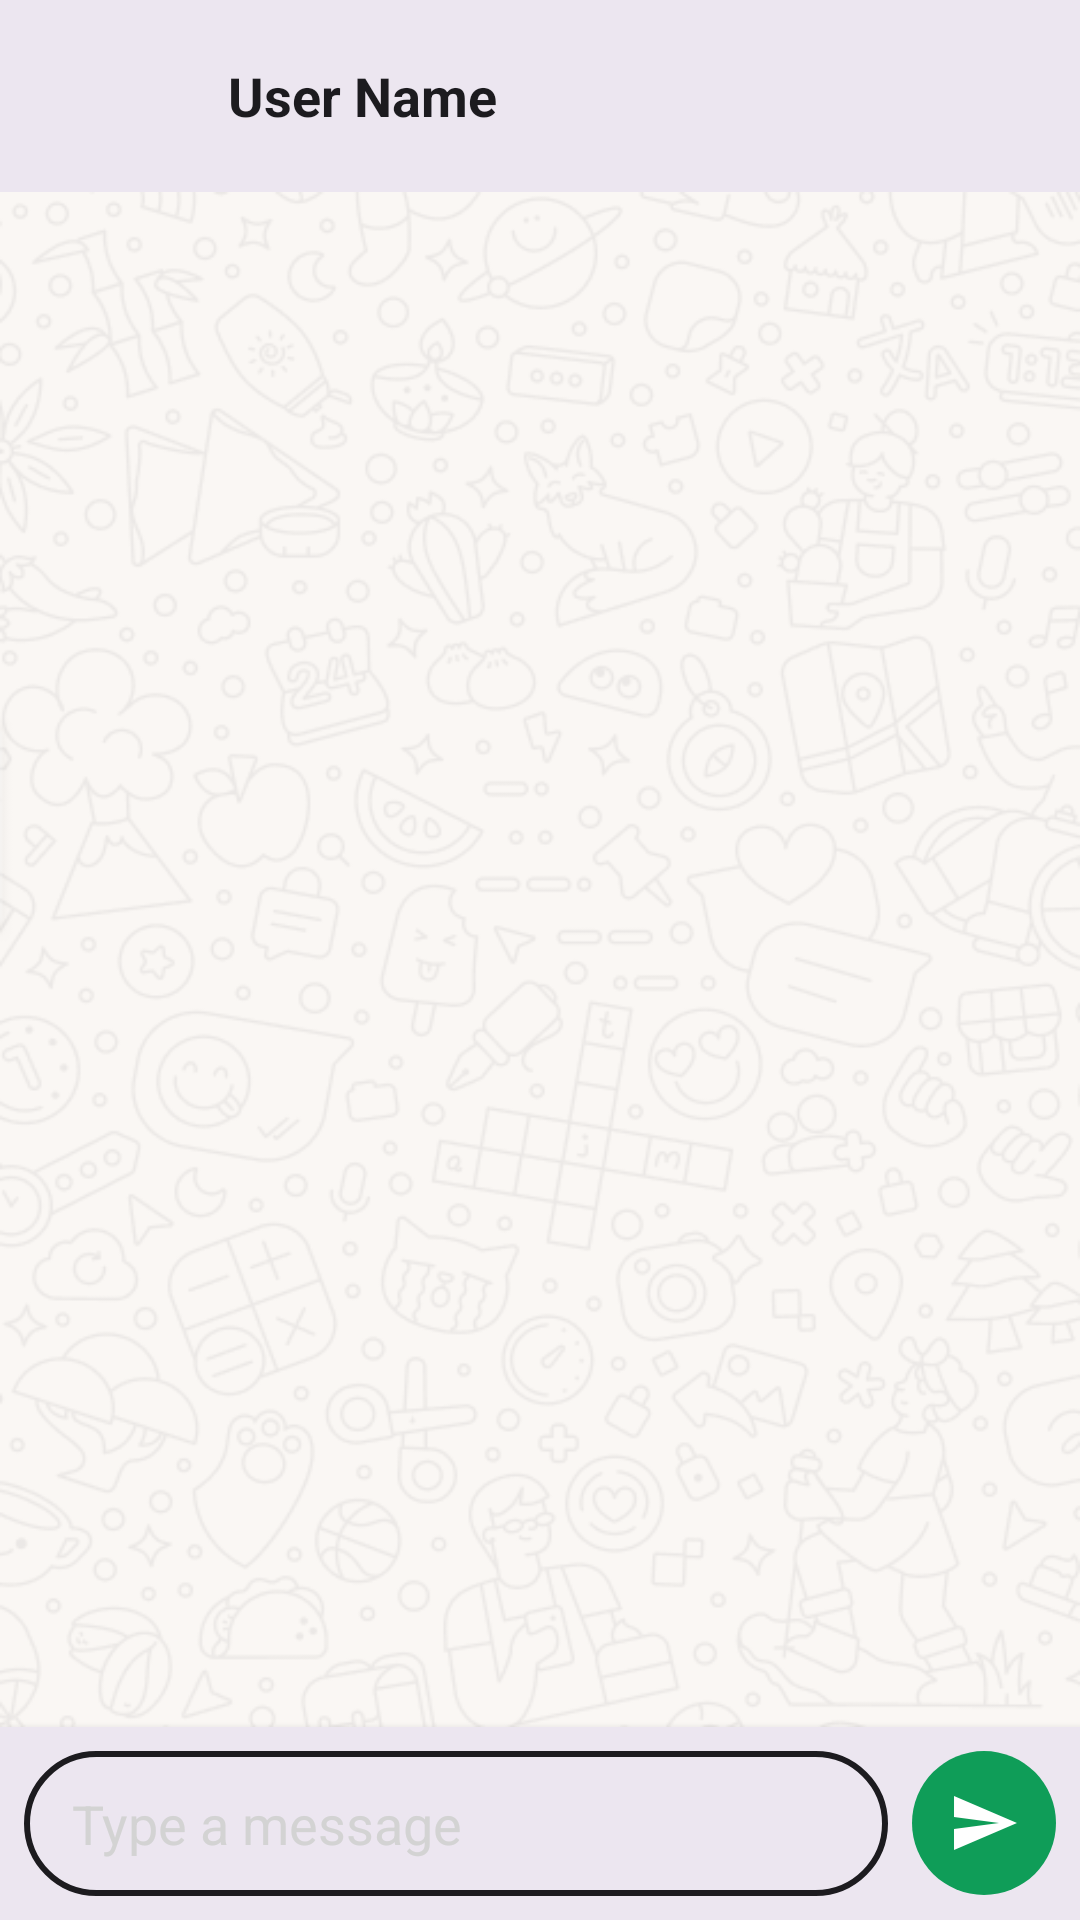

Where to tap for icons on this 1080×1920 app screen, as (x=x, y=y):
Send message: (x=984, y=1823)
